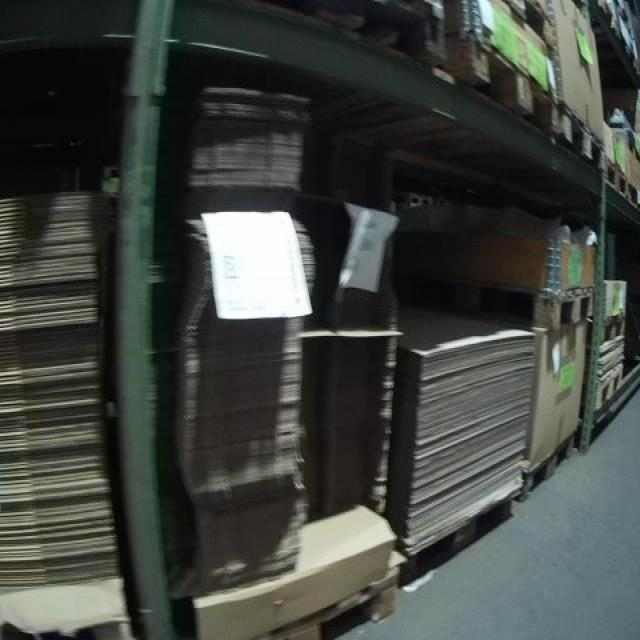pallet: (223, 558, 409, 637), (441, 31, 560, 145), (446, 288, 598, 329), (518, 425, 579, 498), (560, 108, 608, 181), (585, 3, 621, 44), (593, 362, 624, 407), (596, 311, 630, 346), (618, 31, 639, 79), (607, 162, 628, 209), (630, 181, 639, 215)
